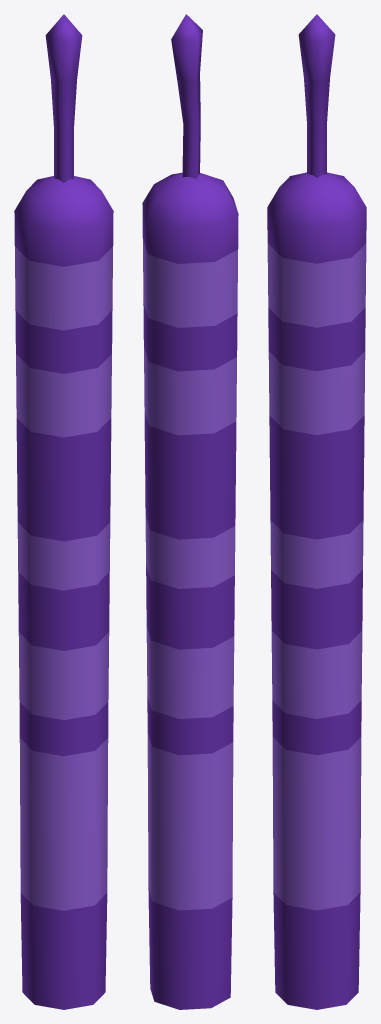
Rendered from birthday_candle_005.glb.
3 views of the same model, side by side, from view 1: azimuth 90°, elevation 25°; view 2: azimuth 210°, elevation 25°; view 3: azimuth 270°, elevation 25° (orthographic).
Visible parts, largest first — view 1: birthday_candle_005; view 2: birthday_candle_005; view 3: birthday_candle_005.
Part boxes in pixels (x1,y1,x2,y2): birthday_candle_005: (14,14,113,1009); birthday_candle_005: (142,14,238,1009); birthday_candle_005: (267,14,366,1009).
Size of the model in its own units: 0.9222 by 10.03 by 0.9222.
Materials: 1 (1 with a texture image).
